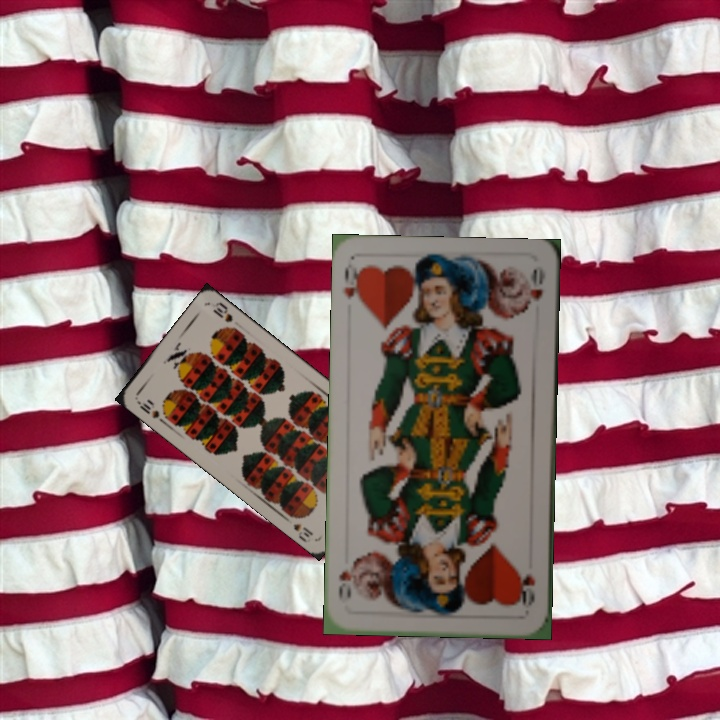HO: (340, 260, 365, 309), (517, 570, 538, 611)
S10: (133, 396, 162, 421)
